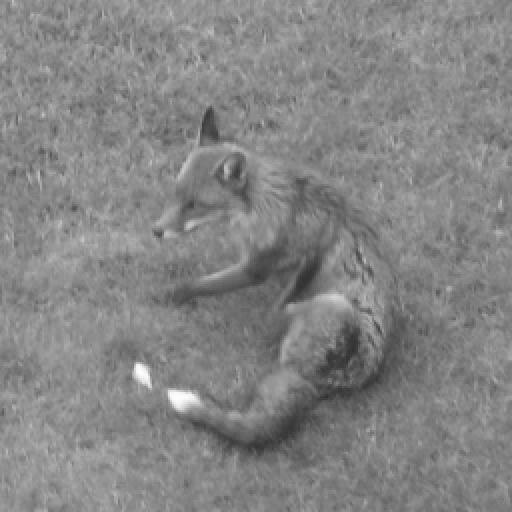zorro: (152, 108, 396, 442)
